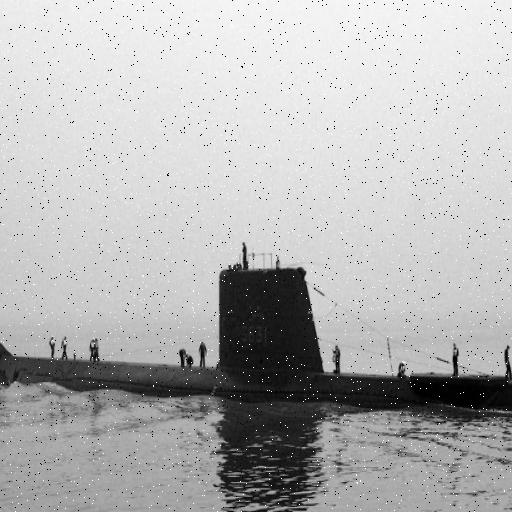submarine: (1, 267, 512, 409)
